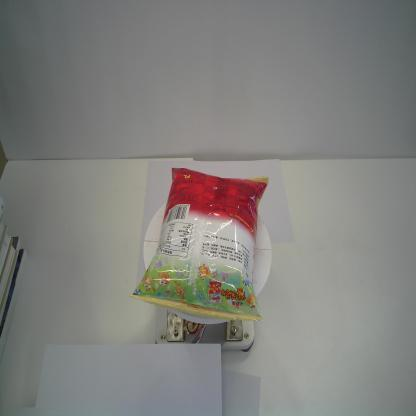Puffed Food: (128, 162, 270, 326)
